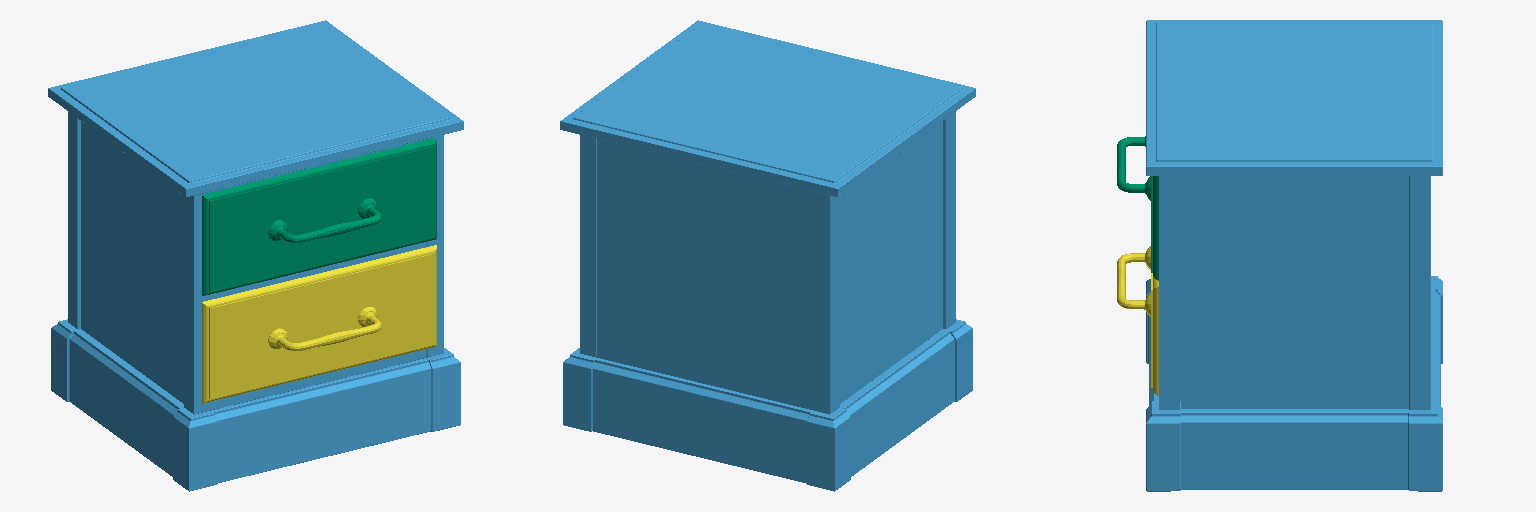
robot.urdf — drawer:
<robot name="drawer">
  <link name="root" />
  <joint name="root_rotation" type="fixed">
    <origin rpy="0 0 0" xyz="0 0 0" />
    <parent link="root" />
    <child link="Nightstand0065" />
  </joint>
  <link name="Nightstand0065">
    <collision>
      <origin rpy="0.000000 -0.000000 0.000000" xyz="4.06e-06 0.00578492 0.3470488" />
      <geometry>
        <box size="0.312039993 0.265350006 0.00191399999" />
      </geometry>
    </collision>
    <collision>
      <origin rpy="0.000000 -0.000000 0.000000" xyz="0 0.00574026 0.34047566" />
      <geometry>
        <box size="0.331064004 0.284200006 0.0103239997" />
      </geometry>
    </collision>
    <collision>
      <origin rpy="0.000000 -0.000000 0.000000" xyz="-0.13772738 -0.11429712 0.20753618" />
      <geometry>
        <box size="0.0227939991 0.0204740009 0.255548005" />
      </geometry>
    </collision>
    <collision>
      <origin rpy="0.000000 -0.000000 0.000000" xyz="-0.13896568 0.12577822 0.20752864" />
      <geometry>
        <box size="0.0203580011 0.0204740009 0.255548005" />
      </geometry>
    </collision>
    <collision>
      <origin rpy="0.000000 -0.000000 0.000000" xyz="0.13896162 0.12577764 0.2075414" />
      <geometry>
        <box size="0.0203580011 0.0204740009 0.255548005" />
      </geometry>
    </collision>
    <collision>
      <origin rpy="0.000000 -0.000000 0.000000" xyz="0.13896162 -0.11429712 0.20757156" />
      <geometry>
        <box size="0.0203580011 0.0204740009 0.255489995" />
      </geometry>
    </collision>
    <collision>
      <origin rpy="0.000000 -0.000000 0.000000" xyz="-0 0.00574026 0.03987442" />
      <geometry>
        <box size="0.317897997 0.279618006 0.0797500017" />
      </geometry>
    </collision>
    <collision>
      <origin rpy="0.000000 -0.000000 0.000000" xyz="-0.14500986 -0.11991906 0.03613632" />
      <geometry>
        <box size="0.033698 0.0328859992 0.0722680004" />
      </geometry>
    </collision>
    <collision>
      <origin rpy="0.000000 -0.000000 0.000000" xyz="0.14501914 -0.11993298 0.03580862" />
      <geometry>
        <box size="0.033698 0.0329440002 0.0716299982" />
      </geometry>
    </collision>
    <collision>
      <origin rpy="0.000000 -0.000000 0.000000" xyz="0.1450058 0.13142046 0.03582254" />
      <geometry>
        <box size="0.033639999 0.0329440002 0.0716299982" />
      </geometry>
    </collision>
    <collision>
      <origin rpy="0.000000 -0.000000 0.000000" xyz="-0.14500986 0.13141582 0.03580688" />
      <geometry>
        <box size="0.033698 0.0329440002 0.0716299982" />
      </geometry>
    </collision>
    <collision>
      <origin rpy="0.000000 -0.000000 0.000000" xyz="-0.1425002 0.12903782 0.07833596" />
      <geometry>
        <box size="0.0288259996 0.0282460006 0.00284200003" />
      </geometry>
    </collision>
    <collision>
      <origin rpy="0.000000 -0.000000 0.000000" xyz="-0.14265912 -0.11743898 0.0783406" />
      <geometry>
        <box size="0.0290000004 0.028014001 0.00284200003" />
      </geometry>
    </collision>
    <collision>
      <origin rpy="0.000000 -0.000000 0.000000" xyz="0.14254312 -0.11754918 0.07835568" />
      <geometry>
        <box size="0.0287680008 0.0281879997 0.00278400013" />
      </geometry>
    </collision>
    <collision>
      <origin rpy="0.000000 -0.000000 0.000000" xyz="0.14265564 0.1289195 0.07835104" />
      <geometry>
        <box size="0.0290000004 0.028014001 0.00278400013" />
      </geometry>
    </collision>
    <collision>
      <origin rpy="0.000000 -0.000000 0.000000" xyz="0.13582208 -0.00450718 0.20732564" />
      <geometry>
        <box size="0.0194879993 0.240061993 0.255083997" />
      </geometry>
    </collision>
    <collision>
      <origin rpy="0.000000 -0.000000 0.000000" xyz="-0.13594272 -0.0045182 0.20751182" />
      <geometry>
        <box size="0.0192559997 0.240061993 0.255432003" />
      </geometry>
    </collision>
    <collision>
      <origin rpy="0.000000 -0.000000 0.000000" xyz="-0.00029174 0.1236763 0.20753328" />
      <geometry>
        <box size="0.256882001 0.0247079991 0.255432003" />
      </geometry>
    </collision>
    <collision>
      <origin rpy="0.000000 -0.000000 0.000000" xyz="-9.106e-05 -0.00660852 0.20913582" />
      <geometry>
        <box size="0.252183999 0.235885991 0.0130500005" />
      </geometry>
    </collision>
    <visual>
      <origin xyz="0 0 0" rpy="0 0 0" />
      <geometry>
        <mesh filename="drawer_meshes/Nightstand0065/part_00/mesh.obj" scale="0.58 0.58 0.58" />
      </geometry>
    </visual>
    <inertial>
      <origin xyz="0 0.0057403876 0.17399987" rpy="0 0 0" />
      <mass value="1.8" />
      <inertia ixx="0.0302960545" ixy="0" ixz="0" iyy="0.0346060786" iyz="0" izz="0.0285709875" />
    </inertial>
  </link>
  <link name="Nightstand0065_drawer01">
    <collision>
      <origin rpy="0.000000 -0.000000 0.000000" xyz="6.96e-06 0.0009077 -4.872e-05" />
      <geometry>
        <box size="0.280197998 0.00585799977 0.115884" />
      </geometry>
    </collision>
    <collision>
      <origin rpy="0.000000 -0.000000 0.000000" xyz="-6.38e-06 -0.0028913 4.64e-06" />
      <geometry>
        <box size="0.267728003 0.00174000002 0.103471997" />
      </geometry>
    </collision>
    <collision>
      <origin rpy="0.000000 -0.000000 0.000000" xyz="0.12068988 0.11937966 -0.00863562" />
      <geometry>
        <box size="0.00754000016 0.232579996 0.0880440038" />
      </geometry>
    </collision>
    <collision>
      <origin rpy="0.000000 -0.000000 0.000000" xyz="-0.12068988 0.11937502 -0.0087" />
      <geometry>
        <box size="0.00754000016 0.232579996 0.0881599972" />
      </geometry>
    </collision>
    <collision>
      <origin rpy="0.000000 -0.000000 0.000000" xyz="0.0001624 0.23188632 -0.0087" />
      <geometry>
        <box size="0.234783999 0.00754000016 0.0881599972" />
      </geometry>
    </collision>
    <collision>
      <origin rpy="0.000000 -0.000000 0.000000" xyz="2.9e-05 0.11624418 -0.04901" />
      <geometry>
        <box size="0.234900001 0.225271993 0.00754000016" />
      </geometry>
    </collision>
    <visual>
      <origin xyz="0 0 0" rpy="0 0 0" />
      <geometry>
        <mesh filename="drawer_meshes/Nightstand0065_drawer01/part_00/mesh.obj" scale="0.58 0.58 0.58" />
      </geometry>
    </visual>
    <visual>
      <origin xyz="0 0 0" rpy="0 0 0" />
      <geometry>
        <mesh filename="drawer_meshes/Nightstand0065_drawer01/part_01/mesh.obj" scale="0.58 0.58 0.58" />
      </geometry>
    </visual>
    <collision name="graspable_handle_bar_Nightstand0065_drawer01">
      <origin xyz="0.0003661308 -0.0333059548 -0.0001931893" rpy="0 0 0" />
      <geometry>
        <box size="0.108672906 0.0068405664 0.011516248" />
      </geometry>
    </collision>
    <collision name="graspable_handle_support_a_Nightstand0065_drawer01">
      <origin xyz="-0.0582872195 -0.0201270382 -0.0001932415" rpy="0 0 0" />
      <geometry>
        <box size="0.0130340778 0.0331983996 0.0235143948" />
      </geometry>
    </collision>
    <collision name="graspable_handle_support_b_Nightstand0065_drawer01">
      <origin xyz="0.0590194811 -0.0201270382 -0.0001932415" rpy="0 0 0" />
      <geometry>
        <box size="0.0130340778 0.0331983996 0.0235143948" />
      </geometry>
    </collision>
    <inertial>
      <origin xyz="-6.7077e-06 0.0994650323 4.7879e-06" rpy="0 0 0" />
      <mass value="0.35" />
      <inertia ixx="0.00255640721" ixy="0" ixz="0" iyy="0.00268305778" iyz="0" izz="0.00445453173" />
    </inertial>
  </link>
  <link name="Nightstand0065_drawer02">
    <collision>
      <origin rpy="0.000000 -0.000000 0.000000" xyz="6.96e-06 0.0009077 -4.756e-05" />
      <geometry>
        <box size="0.280197998 0.00585799977 0.115884" />
      </geometry>
    </collision>
    <collision>
      <origin rpy="0.000000 -0.000000 0.000000" xyz="-6.38e-06 -0.0028913 5.8e-06" />
      <geometry>
        <box size="0.267728003 0.00174000002 0.103471997" />
      </geometry>
    </collision>
    <collision>
      <origin rpy="0.000000 -0.000000 0.000000" xyz="0.12068988 0.11937966 -0.00863446" />
      <geometry>
        <box size="0.00754000016 0.232579996 0.0880440038" />
      </geometry>
    </collision>
    <collision>
      <origin rpy="0.000000 -0.000000 0.000000" xyz="-0.12068988 0.11937502 -0.00869884" />
      <geometry>
        <box size="0.00754000016 0.232579996 0.0881599972" />
      </geometry>
    </collision>
    <collision>
      <origin rpy="0.000000 -0.000000 0.000000" xyz="0.0001624 0.23188632 -0.00869884" />
      <geometry>
        <box size="0.234783999 0.00754000016 0.0881599972" />
      </geometry>
    </collision>
    <collision>
      <origin rpy="0.000000 -0.000000 0.000000" xyz="2.9e-05 0.11624418 -0.04900884" />
      <geometry>
        <box size="0.234900001 0.225271993 0.00754000016" />
      </geometry>
    </collision>
    <visual>
      <origin xyz="0 0 0" rpy="0 0 0" />
      <geometry>
        <mesh filename="drawer_meshes/Nightstand0065_drawer02/part_00/mesh.obj" scale="0.58 0.58 0.58" />
      </geometry>
    </visual>
    <visual>
      <origin xyz="0 0 0" rpy="0 0 0" />
      <geometry>
        <mesh filename="drawer_meshes/Nightstand0065_drawer02/part_01/mesh.obj" scale="0.58 0.58 0.58" />
      </geometry>
    </visual>
    <collision name="graspable_handle_bar_Nightstand0065_drawer02">
      <origin xyz="0.0003661308 -0.033306007 -0.001197816" rpy="0 0 0" />
      <geometry>
        <box size="0.108672906 0.0068405896 0.0115162364" />
      </geometry>
    </collision>
    <collision name="graspable_handle_support_a_Nightstand0065_drawer02">
      <origin xyz="-0.0582872195 -0.0201270846 -0.0011978566" rpy="0 0 0" />
      <geometry>
        <box size="0.0130340778 0.0331984344 0.02351436" />
      </geometry>
    </collision>
    <collision name="graspable_handle_support_b_Nightstand0065_drawer02">
      <origin xyz="0.0590194811 -0.0201270846 -0.0011978566" rpy="0 0 0" />
      <geometry>
        <box size="0.0130340778 0.0331984344 0.02351436" />
      </geometry>
    </collision>
    <inertial>
      <origin xyz="-6.7077e-06 0.0994650004 2.20719e-05" rpy="0 0 0" />
      <mass value="0.35" />
      <inertia ixx="0.00255640798" ixy="0" ixz="0" iyy="0.00268305755" iyz="0" izz="0.00445453275" />
    </inertial>
  </link>
  <joint name="Nightstand0065_drawer01" type="prismatic">
    <parent link="Nightstand0065" />
    <child link="Nightstand0065_drawer01" />
    <axis xyz="0.000000 -1.000000 0.000000" />
    <limit effort="100.0000" lower="-0" upper="0.213471823" velocity="0.5" />
    <origin rpy="0 0 0" xyz="-0.00012064 -0.12780126 0.27018082" />
    <dynamics damping="0.8" friction="0.2" />
  </joint>
  <joint name="Nightstand0065_drawer02" type="prismatic">
    <parent link="Nightstand0065" />
    <child link="Nightstand0065_drawer02" />
    <axis xyz="0.000000 -1.000000 0.000000" />
    <limit effort="100.0000" lower="-0" upper="0.213471823" velocity="0.5" />
    <origin rpy="0 0 0" xyz="-0.00012064 -0.12780126 0.14809082" />
    <dynamics damping="0.8" friction="0.2" />
  </joint>
</robot>

--- Render facts (derived) ---
Views: 3 orthographic renders of the robot side by side, from view 1: azimuth 30°, elevation 25°; view 2: azimuth 150°, elevation 25°; view 3: azimuth 270°, elevation 25°.
Model drawer with 4 links and 3 joints (2 prismatic, 1 fixed), rooted at root, posed every joint at zero.
Links seen in each view (by area): view 1: Nightstand0065, Nightstand0065_drawer02, Nightstand0065_drawer01; view 2: Nightstand0065; view 3: Nightstand0065, Nightstand0065_drawer02, Nightstand0065_drawer01.
Boxes of the visible links, x1,y1,x2,y2 form: Nightstand0065: (48, 20, 463, 491); Nightstand0065_drawer02: (202, 245, 436, 403); Nightstand0065_drawer01: (202, 138, 436, 295); Nightstand0065: (560, 20, 975, 491); Nightstand0065: (1146, 20, 1442, 491); Nightstand0065_drawer02: (1117, 246, 1158, 395); Nightstand0065_drawer01: (1117, 136, 1158, 280).
Bounding box of the posed robot: 0.3311 × 0.3125 × 0.348 m (x, y, z).
5 mesh visuals loaded from 5 distinct referenced files (5 OBJ).
